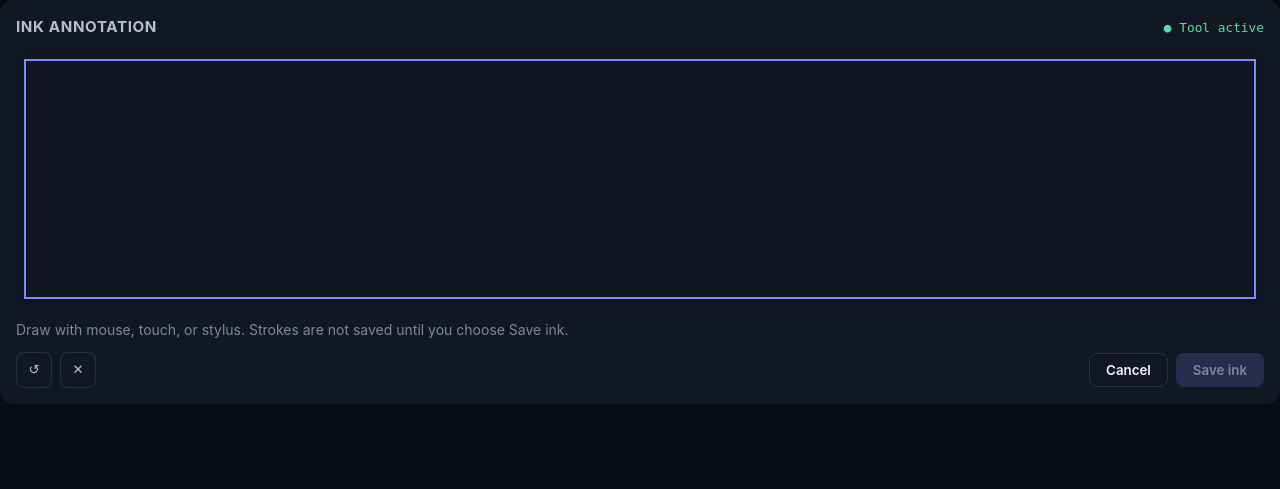
Scenario: draft retention and retry › retains drawing strokes on save rejection, locks editing and clears after retry
This screenshot has width=1280, height=489.
Press the mouse on the picture named "Ink drawing surface" at (640, 179), box [24,59,1256,299]
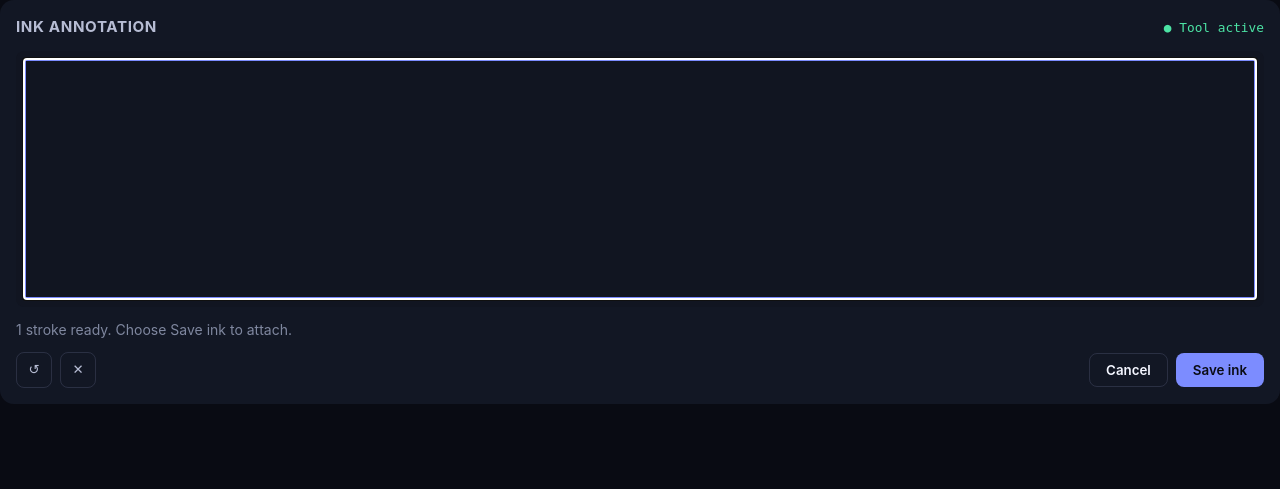
Click the button with aria-label "Save ink annotation" at (1220, 370), box [1176,353,1264,387]
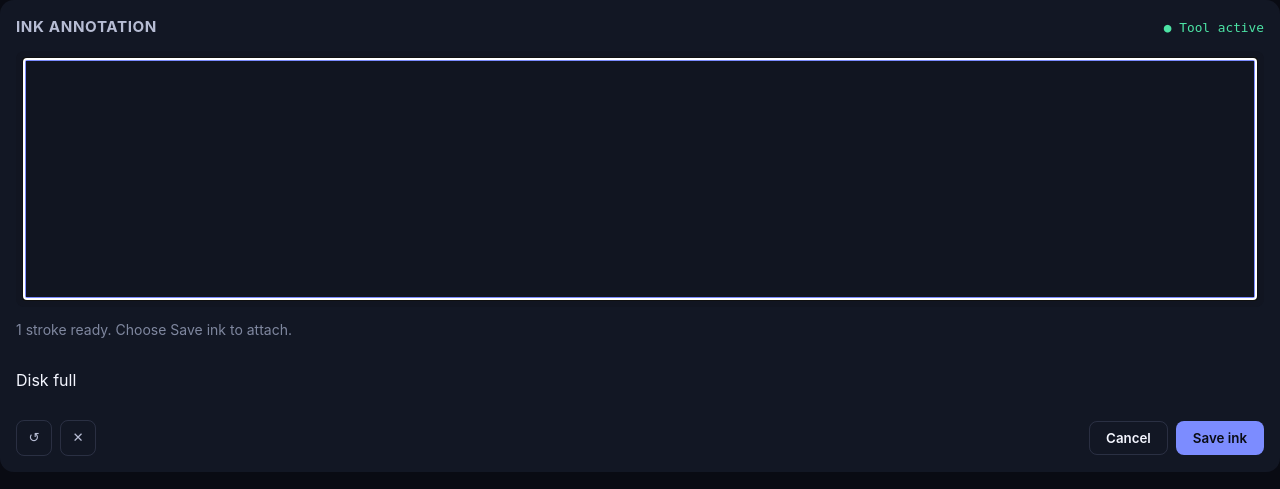
Now the text "1 stroke ready. Choose Save ink to attach." is shown, box [16,321,292,338]
Now the message "Disk full" is shown, box [16,370,76,390]
Now the button named "Clear all strokes" is disabled, box [60,420,96,456]
Press the mouse on the picture named "Ink drawing surface" at (640, 179), box [24,59,1256,299]
Click the button with aria-label "Save ink annotation" at (1220, 438), box [1176,421,1264,455]
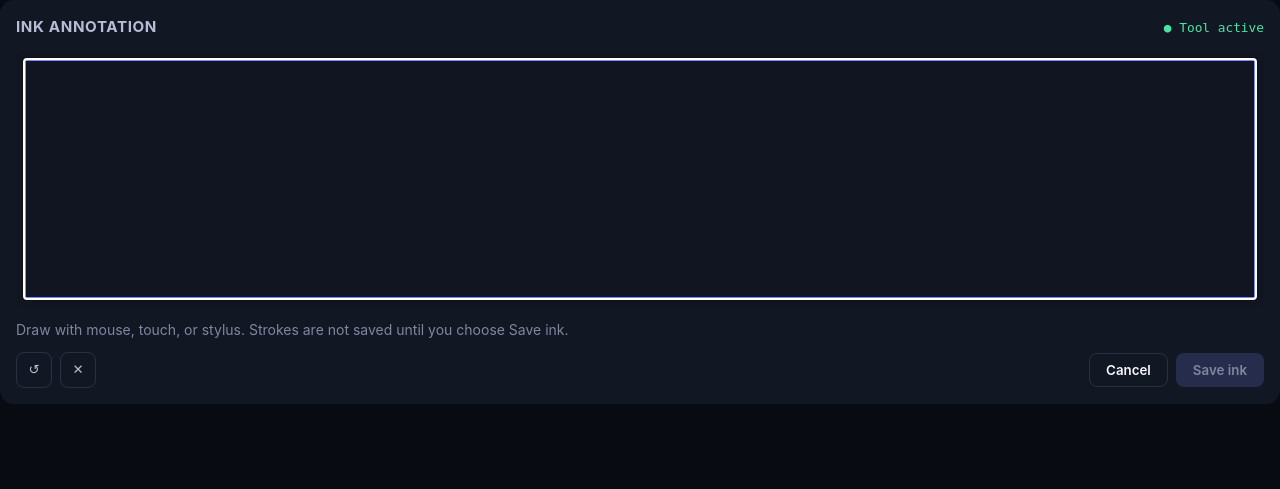
Now the text "1 stroke ready" is gone
